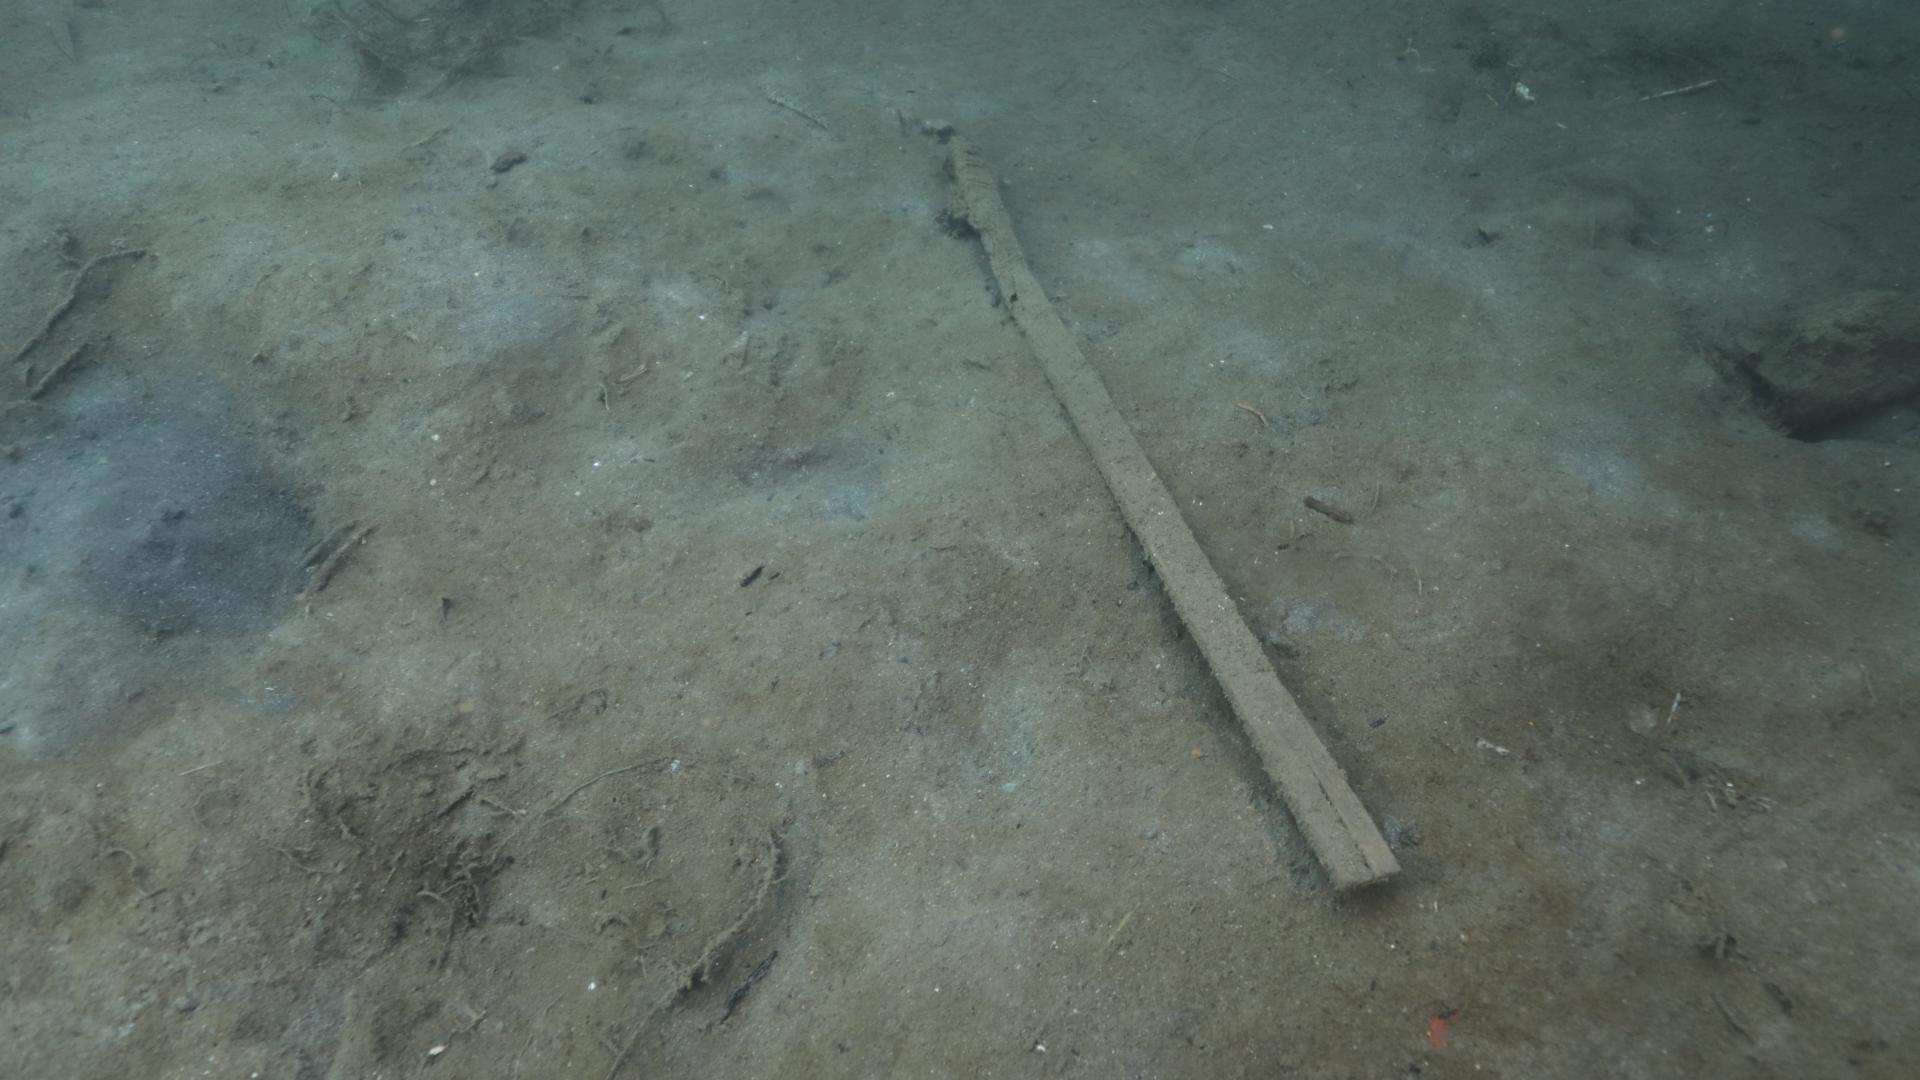wood: (947, 136, 1406, 897)
